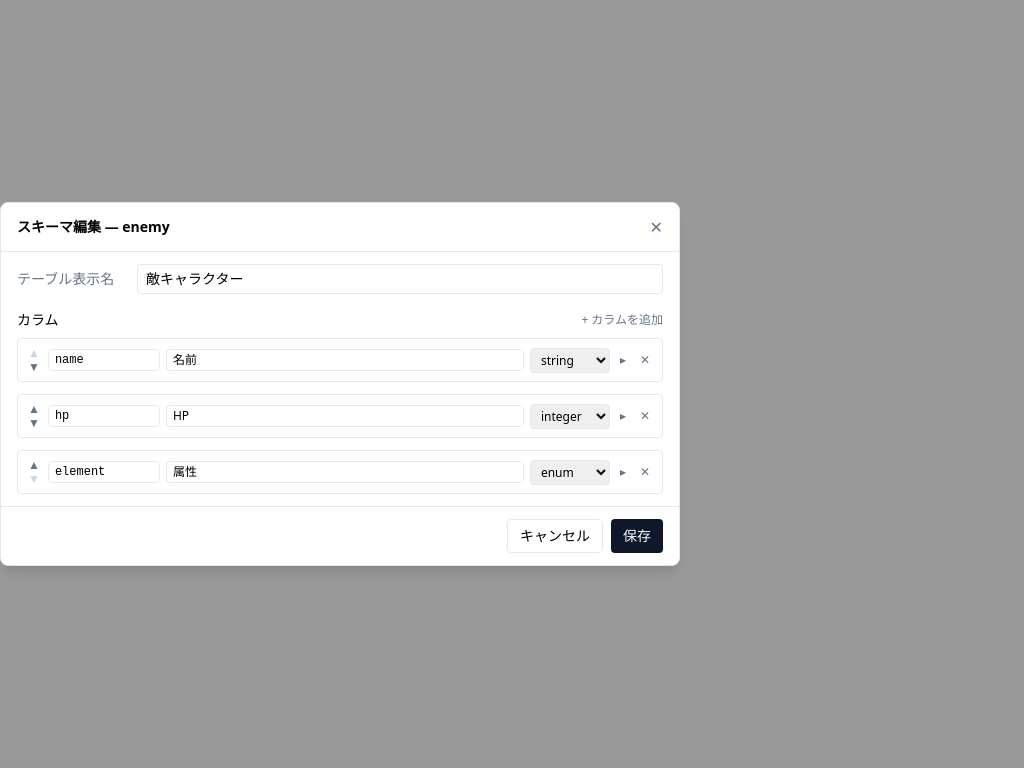
Test: SchemaEditorDialog › カラム削除 › ✕ ボタンでカラムを削除できる
Click the 2nd button titled "削除" at (645, 360), box [636, 352, 654, 368]
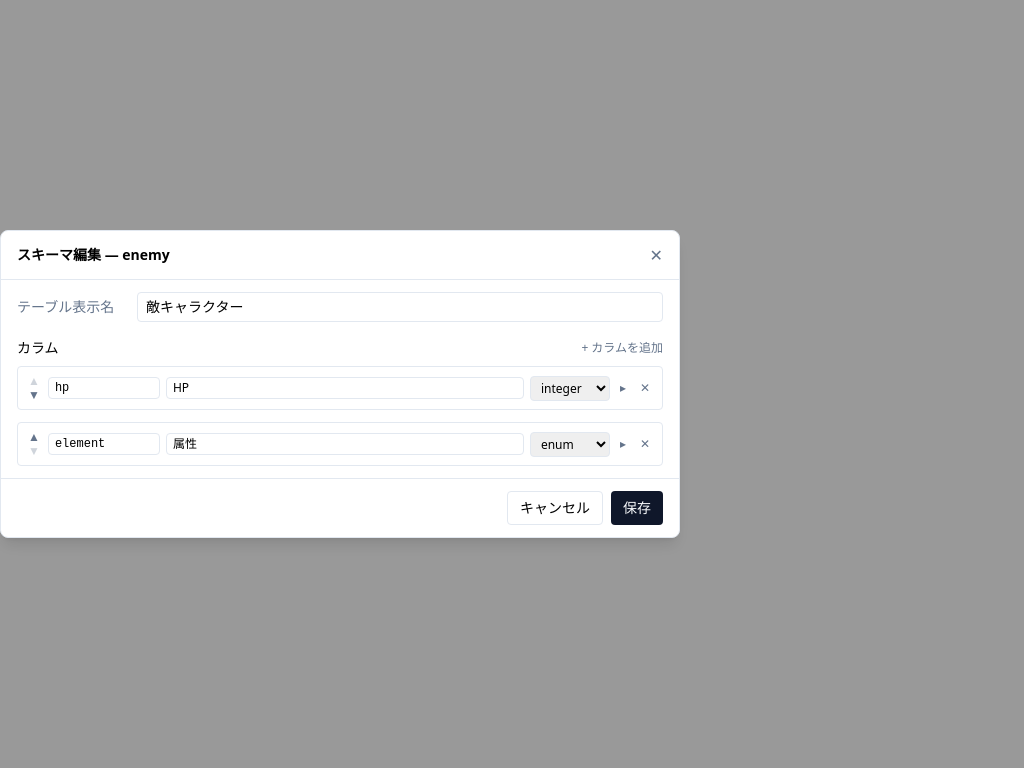
Now the number of fields with placeholder "key" is 2, box [48, 377, 160, 399]; [48, 433, 160, 455]
